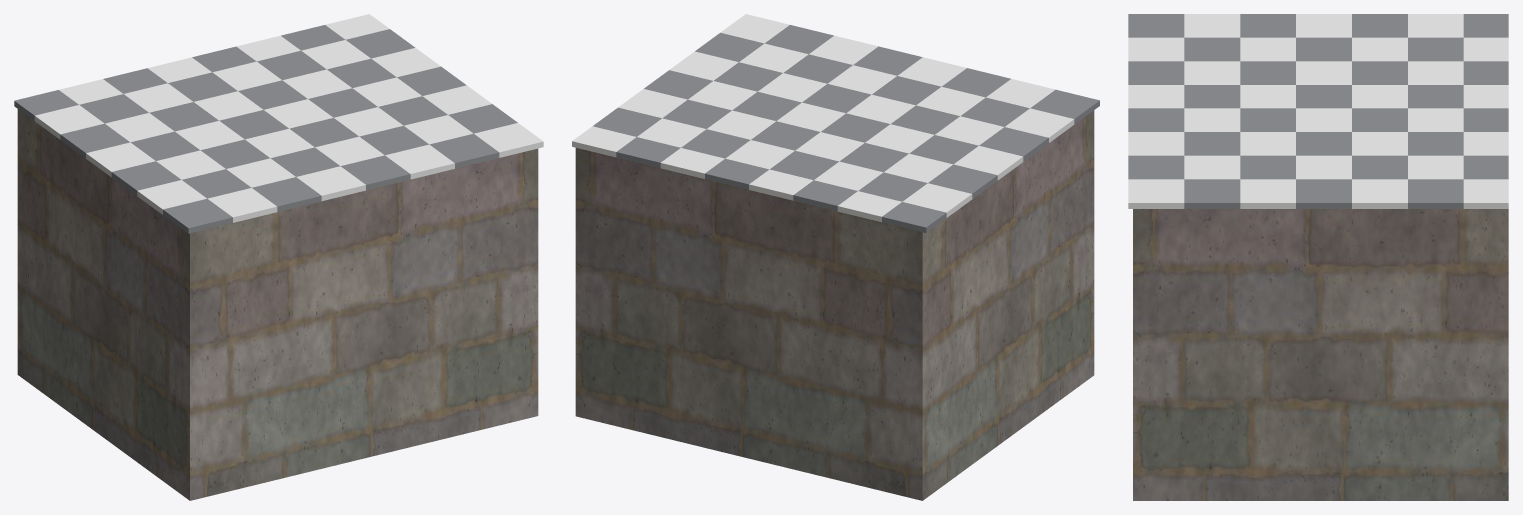
File: floor_tile_g_e0_0_30_0.glb
3 renders of one model, left to right at view 1: azimuth 30°, elevation 25°; view 2: azimuth 150°, elevation 25°; view 3: azimuth 270°, elevation 25°, orthographic. The views are drawn at different scales.
Visible parts, largest first — view 1: floor_tile_g_e0_0_30_0_plinth, floor_tile_g_e0_0_30_0_slate, floor_tile_g_e0_0_30_0_tile; view 2: floor_tile_g_e0_0_30_0_plinth, floor_tile_g_e0_0_30_0_slate, floor_tile_g_e0_0_30_0_tile; view 3: floor_tile_g_e0_0_30_0_plinth, floor_tile_g_e0_0_30_0_tile, floor_tile_g_e0_0_30_0_slate.
Part boxes in pixels (x1,y1,x2,y2): floor_tile_g_e0_0_30_0_plinth: (17, 109, 538, 500); floor_tile_g_e0_0_30_0_slate: (14, 25, 517, 233); floor_tile_g_e0_0_30_0_tile: (34, 14, 543, 222); floor_tile_g_e0_0_30_0_plinth: (575, 110, 1094, 500); floor_tile_g_e0_0_30_0_slate: (593, 25, 1099, 232); floor_tile_g_e0_0_30_0_tile: (572, 14, 1074, 222); floor_tile_g_e0_0_30_0_plinth: (1133, 209, 1508, 500); floor_tile_g_e0_0_30_0_tile: (1128, 14, 1508, 208); floor_tile_g_e0_0_30_0_slate: (1128, 14, 1508, 208).
Bounding box in the file's own units: 2 × 1.48 × 1.7.
3 materials, 1 textured.
